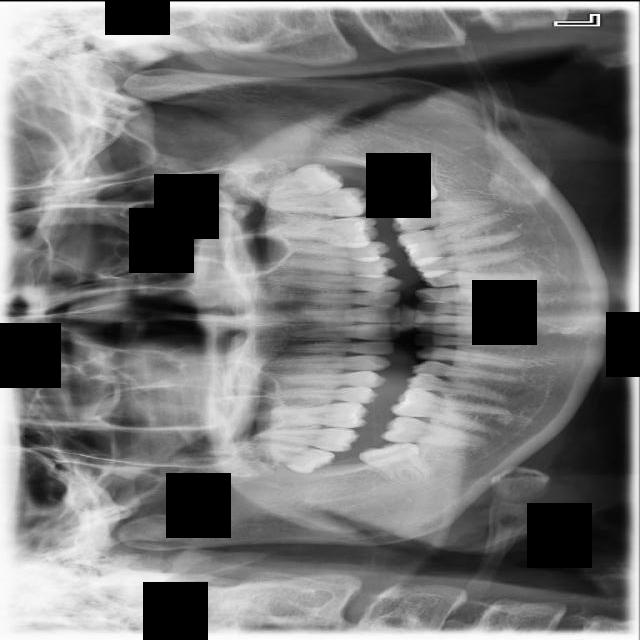3M ESPE Implant: (221, 429, 339, 479)
73: (562, 34, 570, 37)
BioHorizons Implant: (265, 183, 373, 218)
BioLife Implant: (238, 158, 347, 206)
Biomet 3i Implant: (373, 150, 439, 200)
Blue Sky Bio Implant: (387, 190, 501, 234)
Caries: (254, 427, 361, 452)
Implant: (380, 413, 486, 449)
Keystone Dental Implant: (357, 440, 432, 485)
